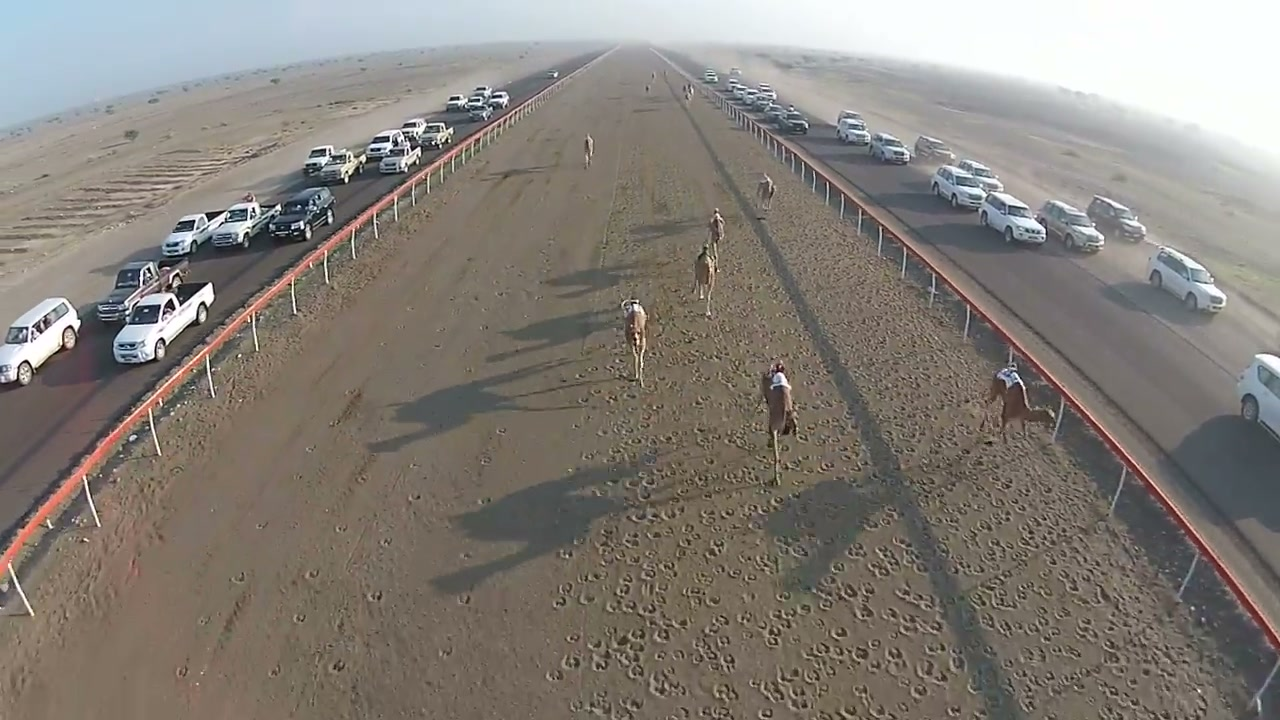animal_footprint: (980, 444, 1211, 702), (577, 382, 715, 719), (749, 478, 866, 717)
